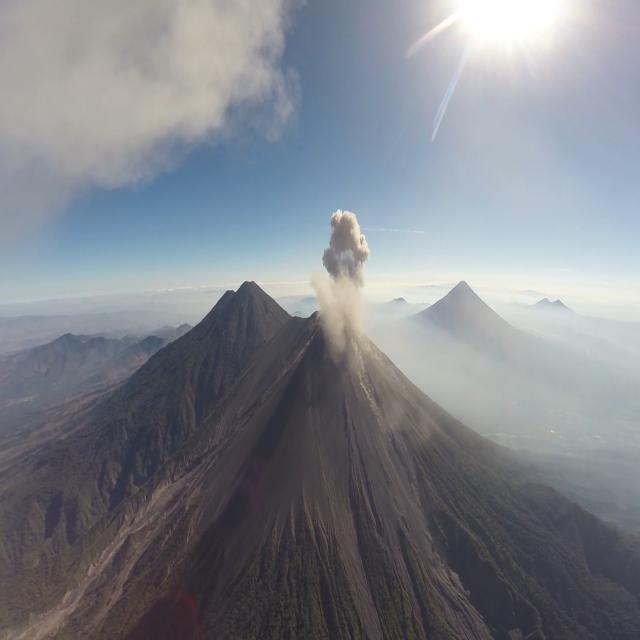Plume: (3, 1, 300, 224), (320, 204, 370, 306)
